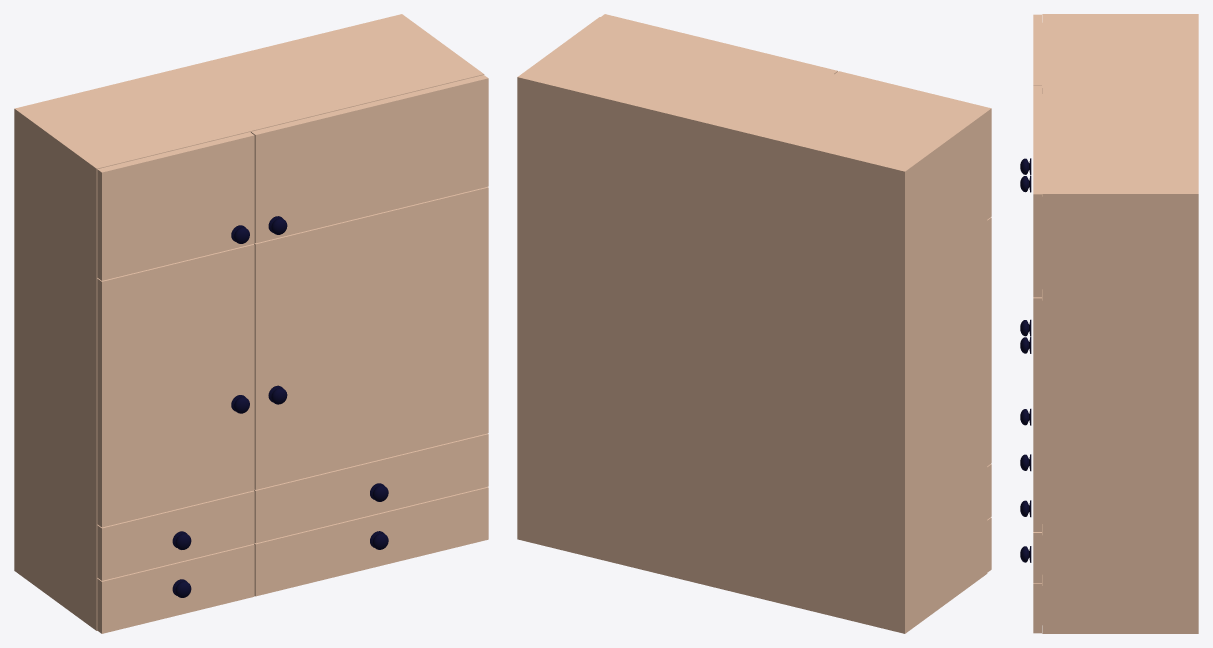
File: Pink Closet.glb
3 views of the same model, side by side, from view 1: azimuth 30°, elevation 25°; view 2: azimuth 150°, elevation 25°; view 3: azimuth 270°, elevation 25° (orthographic). The views are drawn at different scales.
Parts seen in each view (by area): view 1: cupboard_05; view 2: cupboard_05; view 3: cupboard_05.
Boxes of the visible parts, x1,y1,x2,y2 form: cupboard_05: (14,14,488,633); cupboard_05: (517,14,991,633); cupboard_05: (1020,14,1198,633).
Size of the model in its own units: 0.0837 by 0.0953 by 0.0351.
